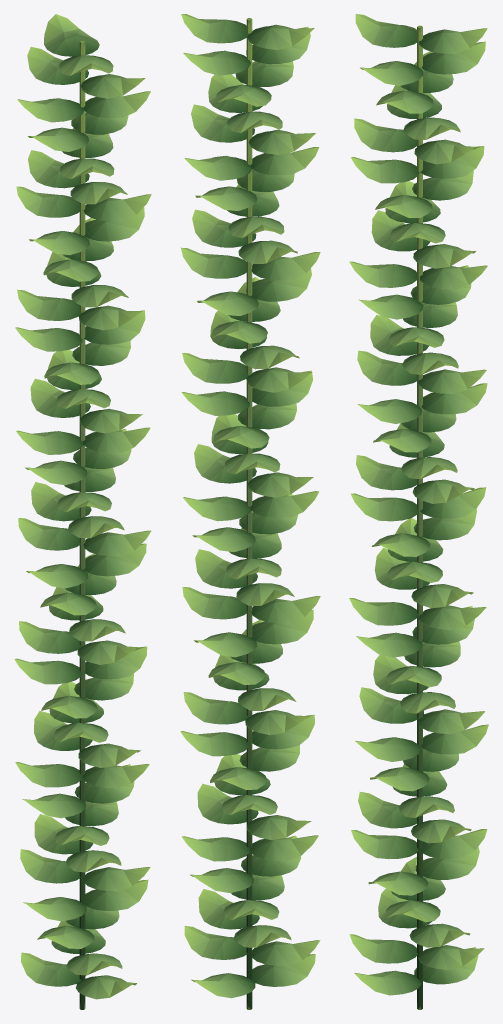
Rendered from SM_Algae_10.fbx.
3 views of the same model, side by side, from view 1: azimuth 90°, elevation 25°; view 2: azimuth 150°, elevation 25°; view 3: azimuth 330°, elevation 25° (orthographic). The views are drawn at different scales.
Parts seen in each view (by area): view 1: Algae_10; view 2: Algae_10; view 3: Algae_10.
Boxes of the visible parts, <box> form: Algae_10: <box>14,14,151,1009</box>; Algae_10: <box>180,14,320,1009</box>; Algae_10: <box>349,14,488,1009</box>.
Size of the model in its own units: 41.46 by 322 by 41.5.
